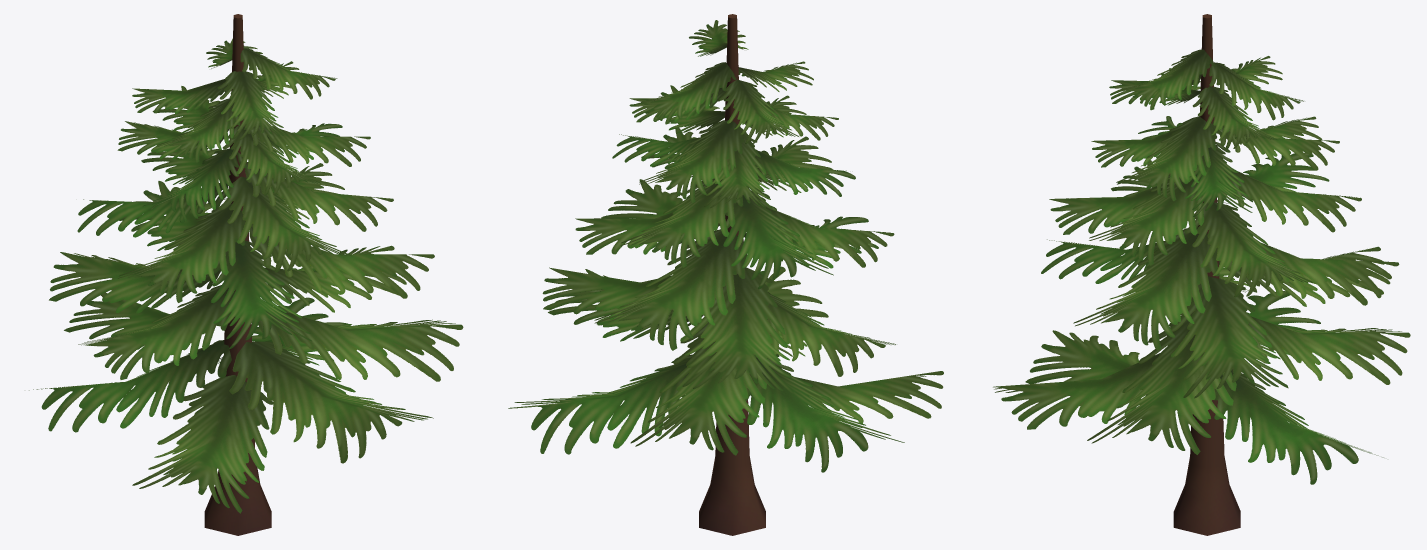
Rendered from TreePine1.fbx.
The picture shows the model from 3 angles, left to right: view 1: azimuth 30°, elevation 25°; view 2: azimuth 150°, elevation 25°; view 3: azimuth 270°, elevation 25°; orthographic projection.
Parts seen in each view (by area): view 1: Pine_v1_1; view 2: Pine_v1_1; view 3: Pine_v1_1.
Part boxes in pixels (left/top/right/bottom): Pine_v1_1: left=29, top=14, right=463, bottom=535; Pine_v1_1: left=508, top=14, right=943, bottom=535; Pine_v1_1: left=993, top=14, right=1410, bottom=535.
Size of the model in its own units: 502 by 614 by 476.
